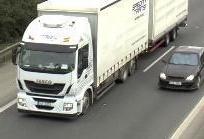truck: (12, 1, 188, 118)
